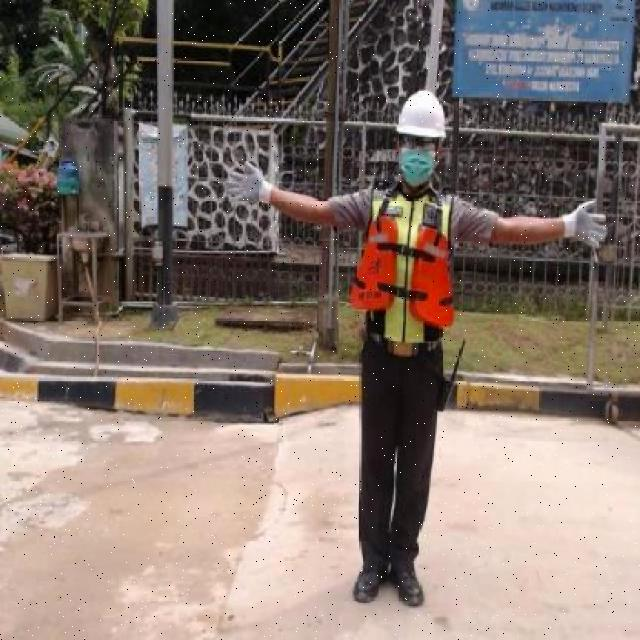Hard_hat: (391, 95, 455, 147)
Person: (226, 91, 610, 626)
Vest: (370, 191, 457, 348)
